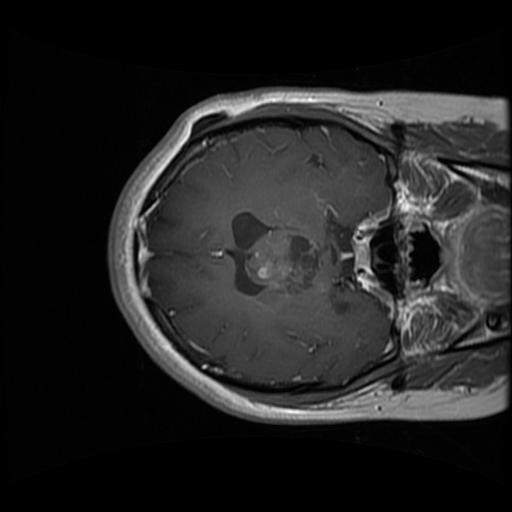glioma: (226, 212, 321, 298)
